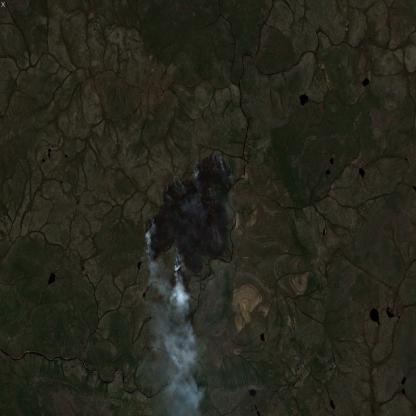fire: (142, 146, 238, 295)
